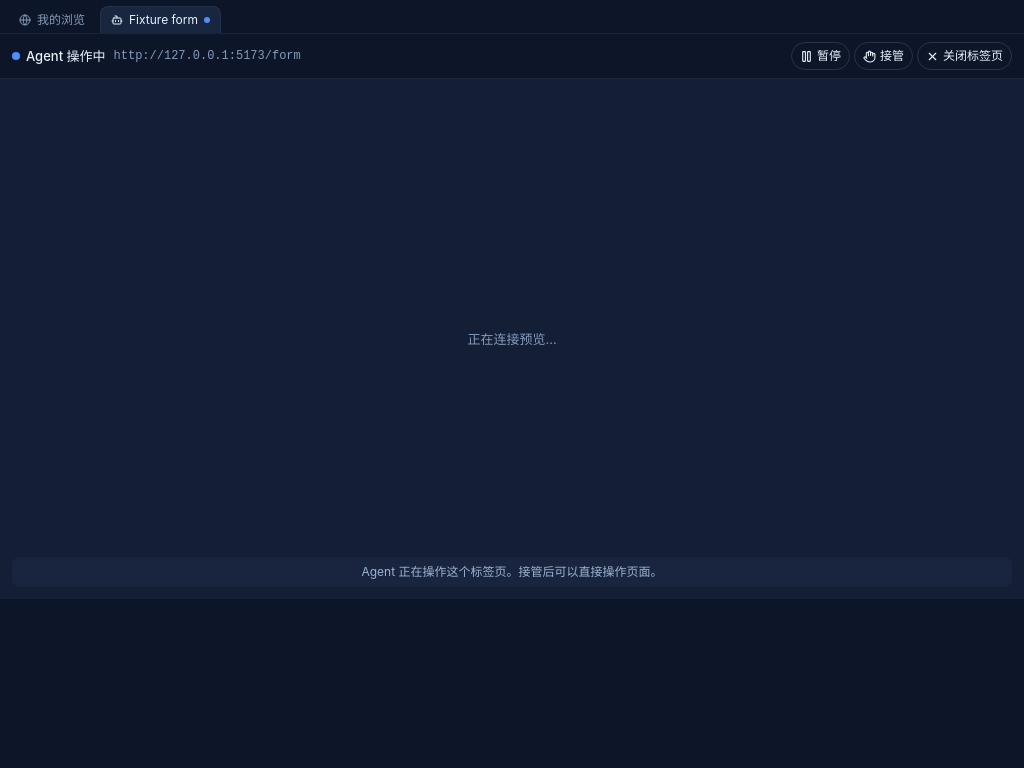
BrowserPane Agent tabs › lists this session's Agent tabs and previews one instead of the native view
expect the element with class "browser-pane" shows "Agent 操作中": met, box [26,48,106,64]
Click the button with class "browser-tab" showing "我的浏览" at (52, 20), box [8,6,96,34]
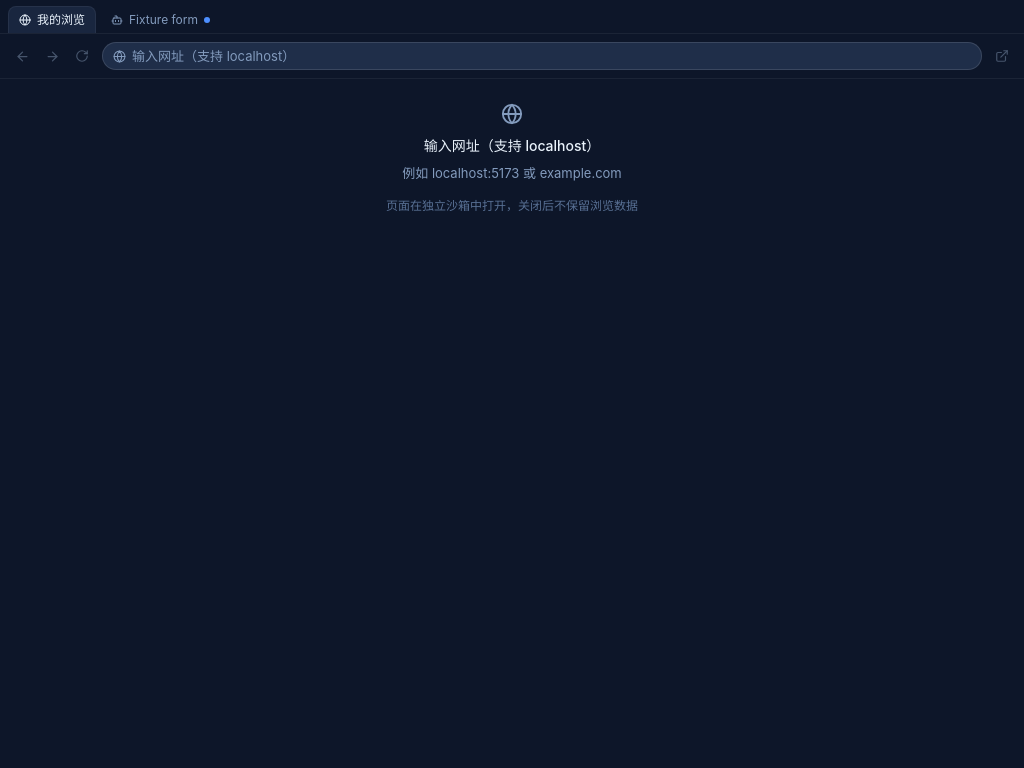
expect the field with placeholder "输入网址（支持 localhost）" is shown: met, box [132,43,971,69]
